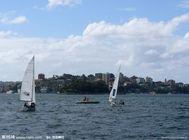fanchuan: (18, 53, 41, 113), (104, 66, 129, 109)
